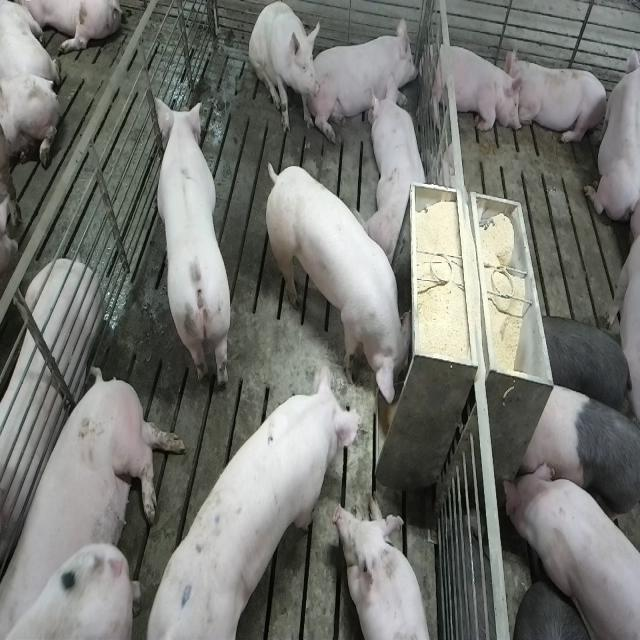Feeding: (270, 162, 419, 410)
Lateral_lying: (3, 362, 188, 637), (0, 258, 102, 593)
Sitting: (249, 2, 319, 136)
Standing: (139, 361, 370, 640), (502, 460, 638, 640), (152, 98, 233, 398), (516, 381, 638, 545), (537, 311, 635, 423)
Sternal_lying: (336, 499, 437, 640), (314, 15, 422, 136), (368, 79, 430, 260), (584, 37, 637, 225), (425, 39, 523, 138), (510, 52, 610, 148)
